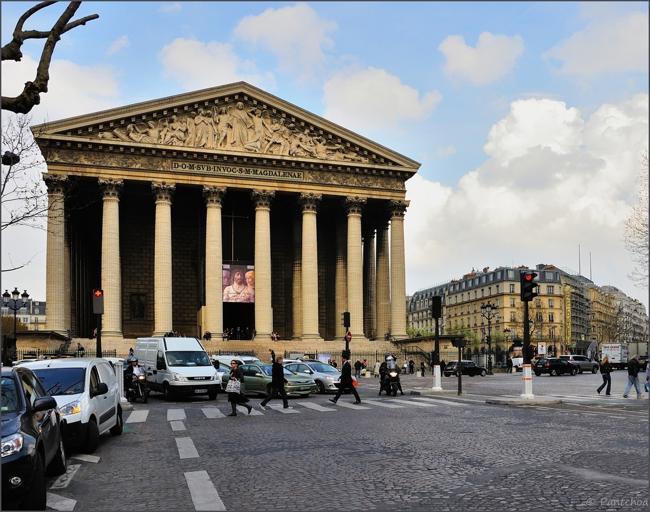non-vehicle: (122, 367, 150, 403), (379, 360, 400, 396)
